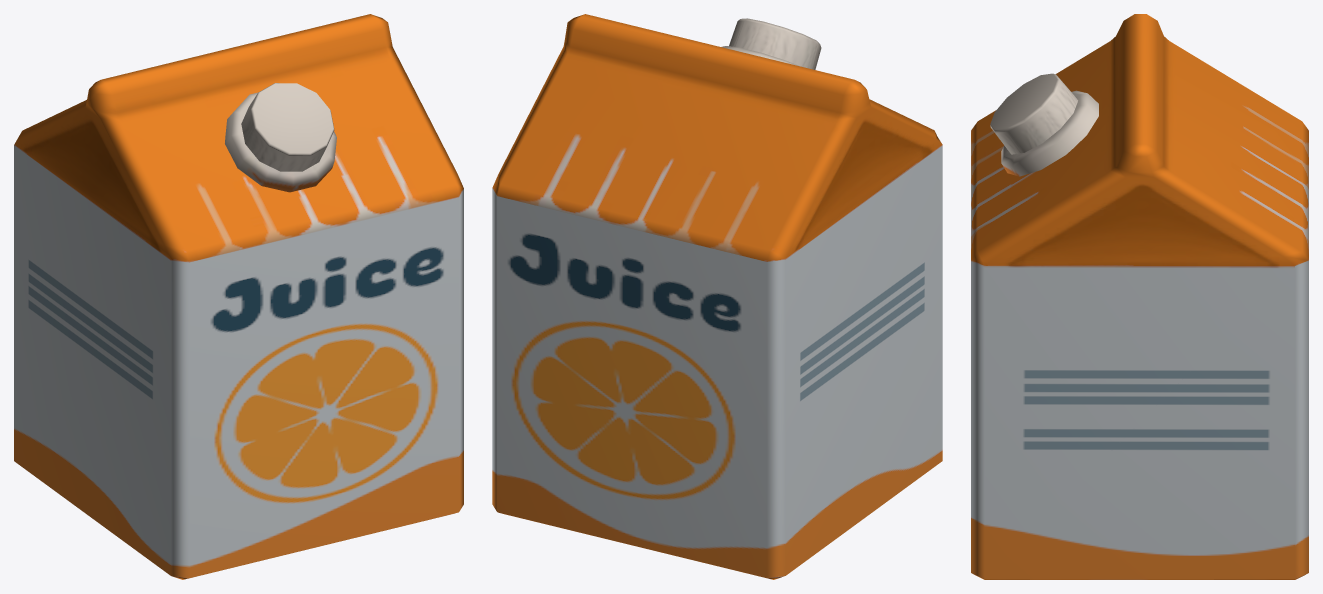
The model's file is juice.fbx.
3 renders of one model, left to right at view 1: azimuth 30°, elevation 25°; view 2: azimuth 150°, elevation 25°; view 3: azimuth 270°, elevation 25°, orthographic.
Parts seen in each view (by area): view 1: juice; view 2: juice; view 3: juice.
Boxes of the visible parts, box(x1,y1,x2,y2) form: juice: box(14, 14, 463, 579); juice: box(492, 14, 942, 579); juice: box(971, 14, 1308, 579).
Size of the model in its own units: 43.97 by 63.14 by 44.34.
